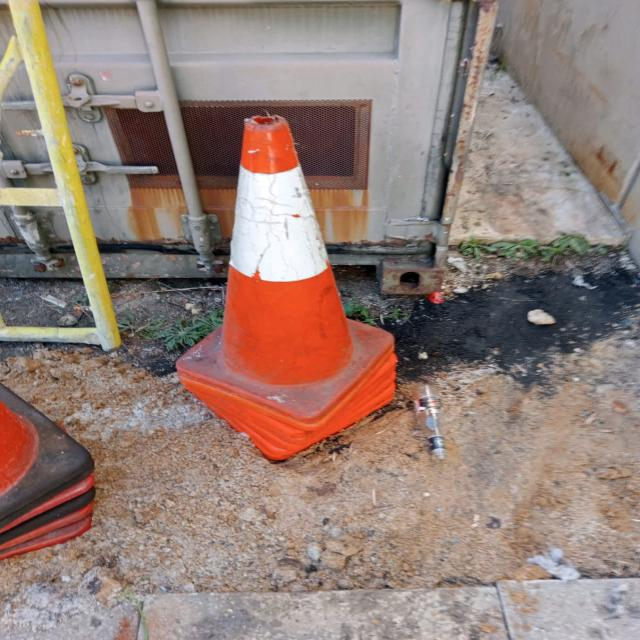Traffic Cone: (101, 68, 492, 506)
